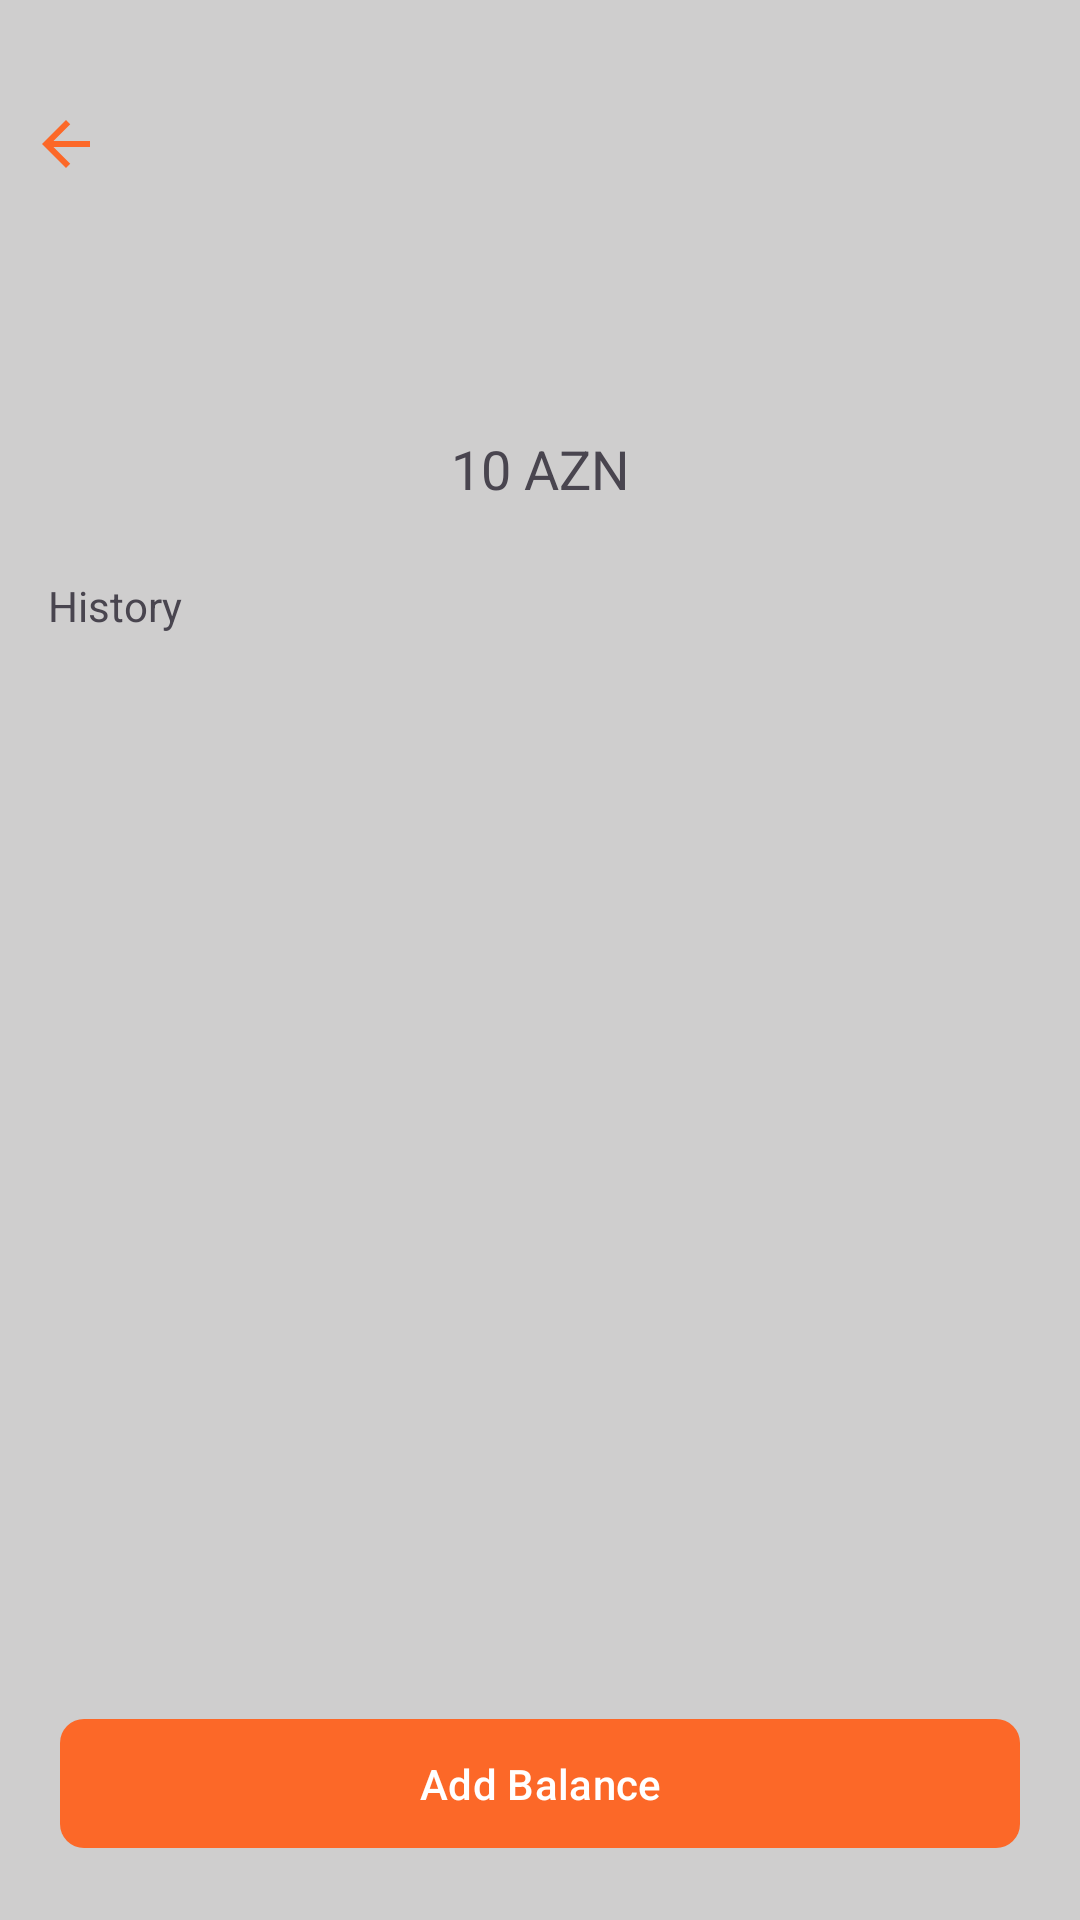

Screen size 1080px x 1920px. Icon name, then its box in pixels as (x1, y1, x2, y2):
back: (42, 120, 90, 168)
